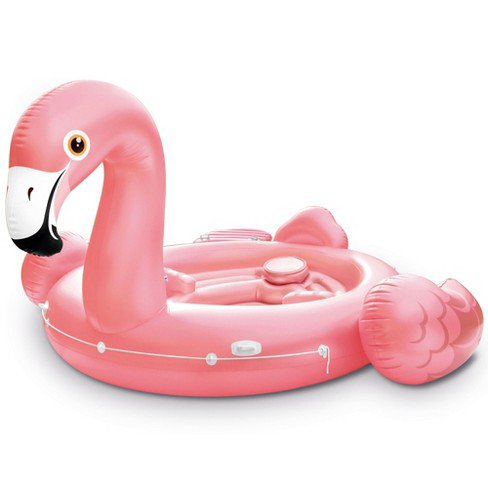Flamingo: (4, 77, 488, 404)
